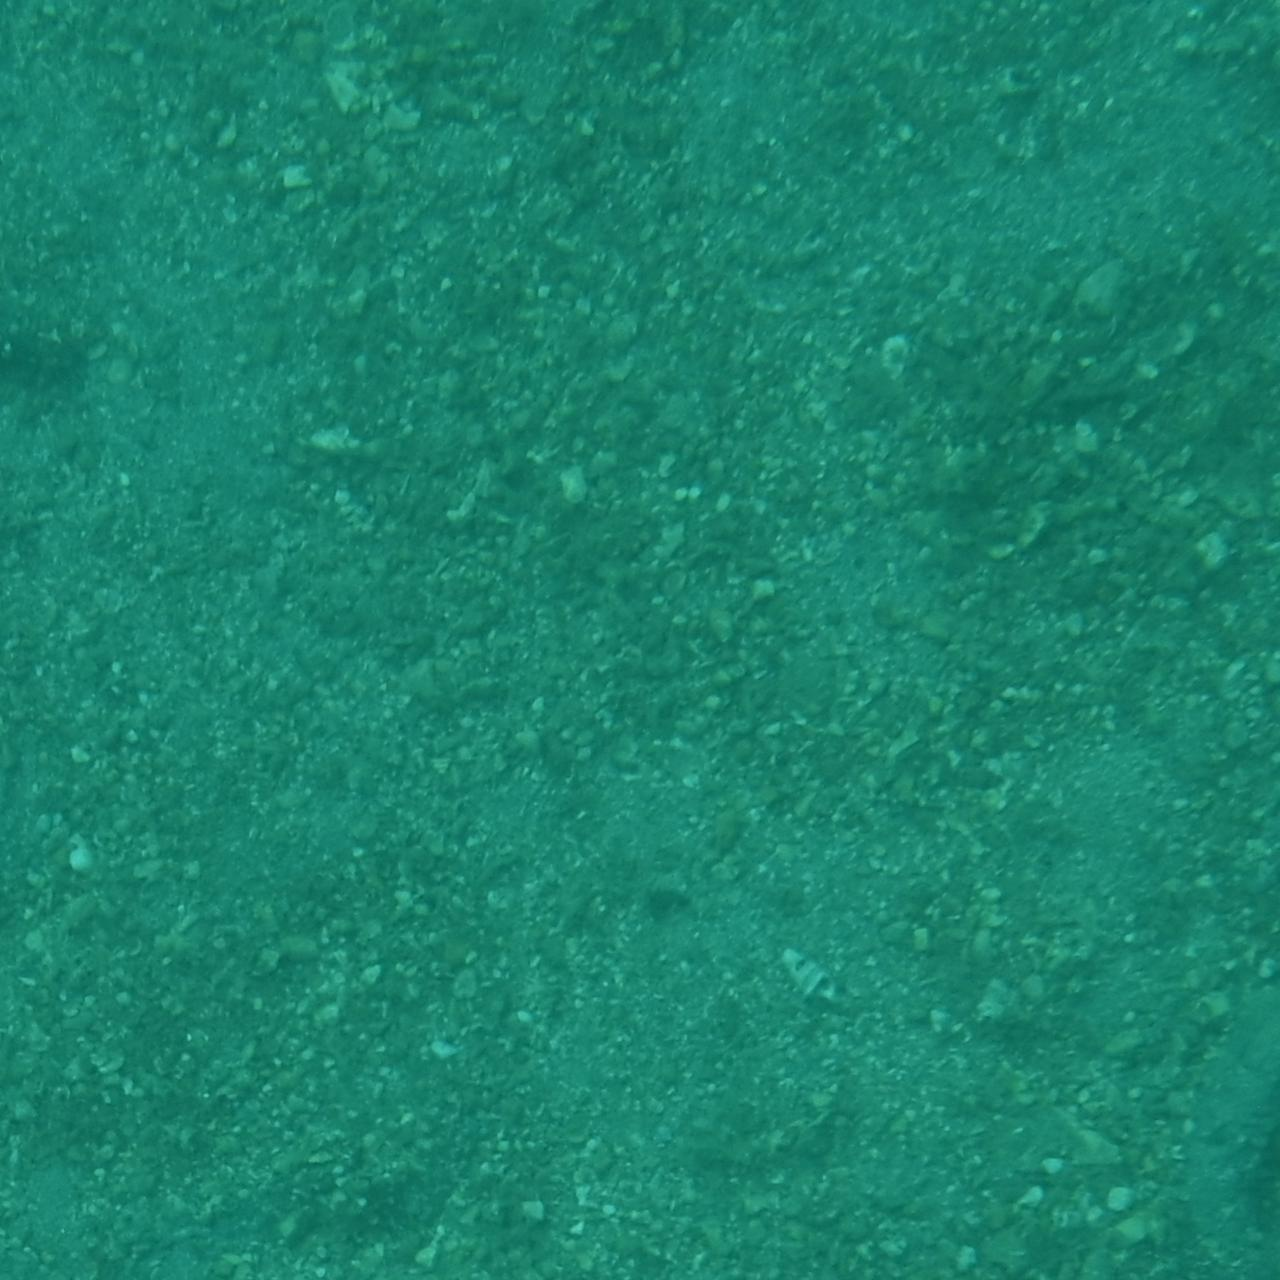Holothuria tubulosa: (470, 1110, 838, 1280), (1178, 959, 1280, 1280), (0, 280, 177, 445), (0, 117, 86, 456), (0, 0, 161, 172), (0, 148, 219, 270), (1148, 1087, 1280, 1280), (0, 1166, 196, 1280), (0, 1200, 219, 1280), (1217, 1060, 1280, 1280)
